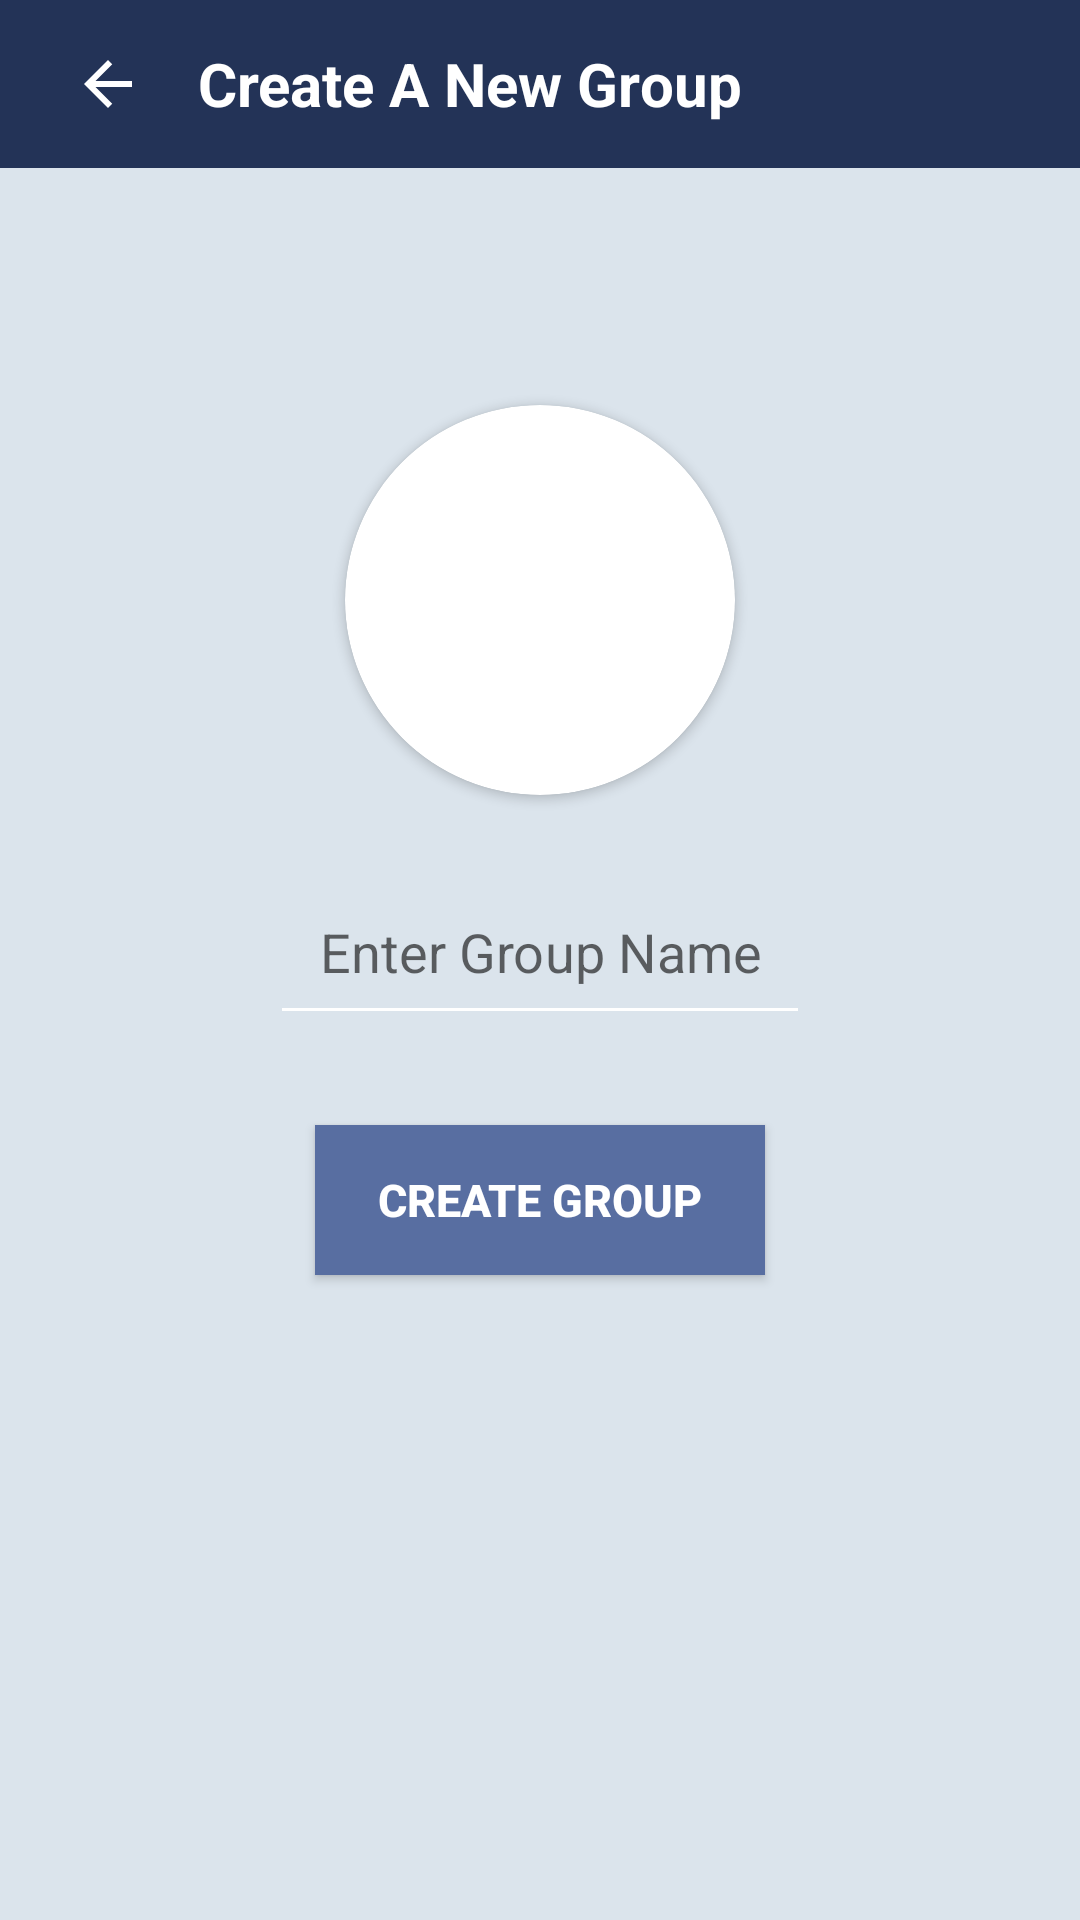

Icon click points for this 1080w x 1920h phone screenshot, format (x=x, y=y):
arrow back: (x=108, y=84)
